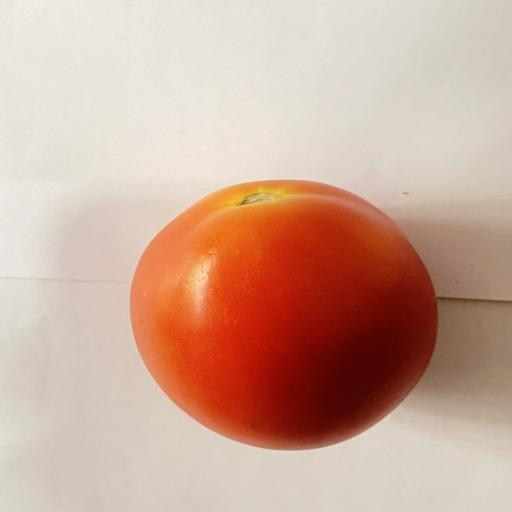ripe: (130, 180, 438, 450)
